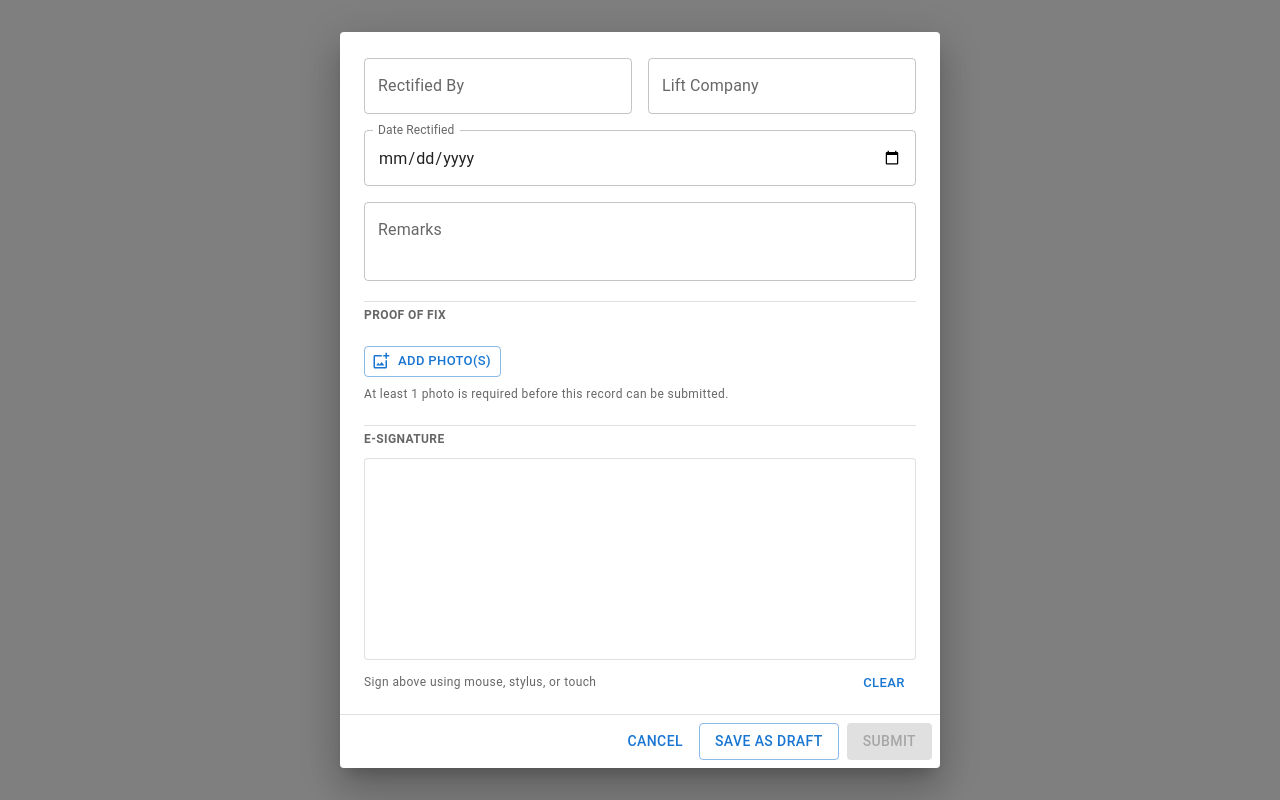
RectificationForm — create mode › blocks "Save as Draft" and shows inline errors when required fields are empty
(page scrolled)
Click the button "Save as Draft": click(769, 742) 699,723 -> 839,760
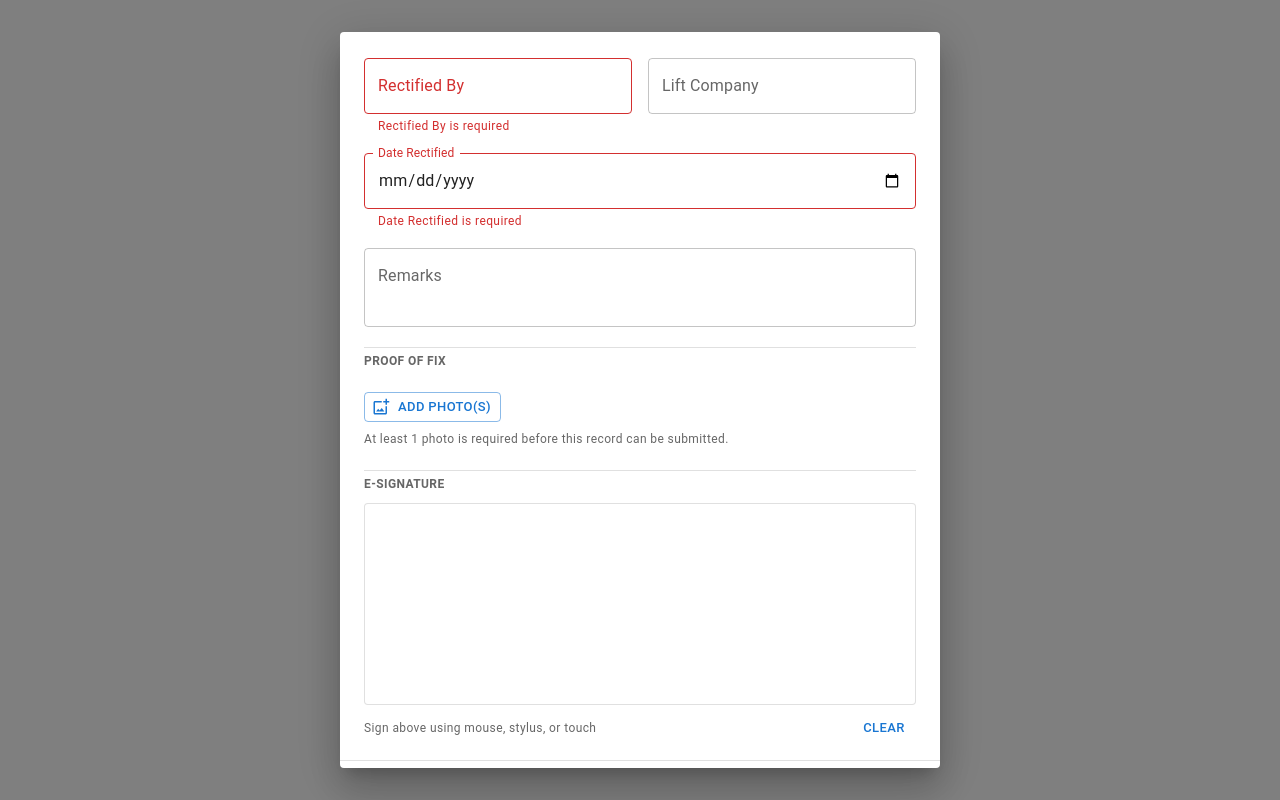
Check: the text "Rectified By is required" is shown, box 378,119 -> 510,133
Check: the text "Date Rectified is required" is shown, box 378,214 -> 522,228
